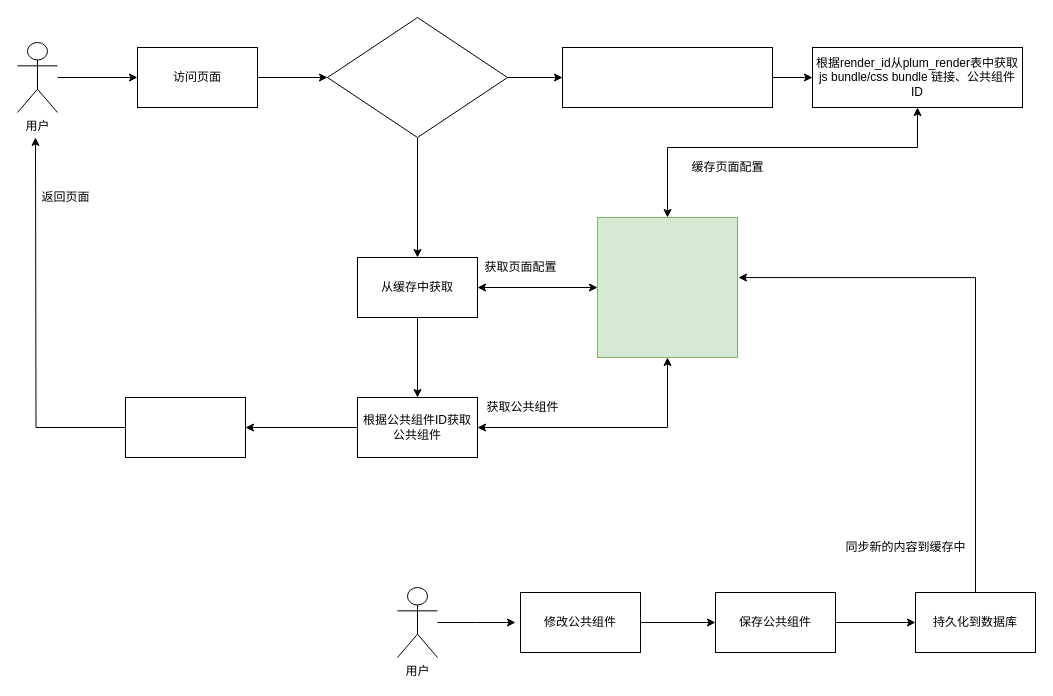
Some shapes in this 1053 by 696 pixel diagram are drawn without their labels. Each missing label, with the centre of its shape:
Redis 缓存: [667,287]
从current_version表获取render_id: [667,77]
生成HTML: [185,427]
页面配置是否有缓存？: [417,77]
